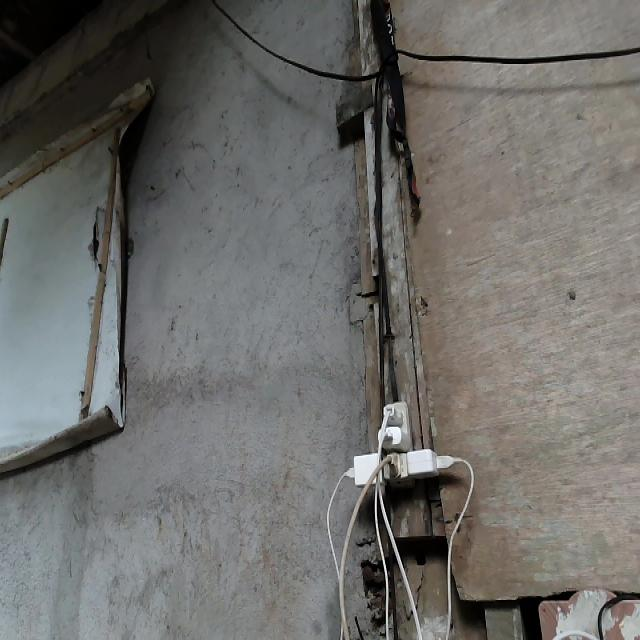-: (332, 397, 460, 492)
